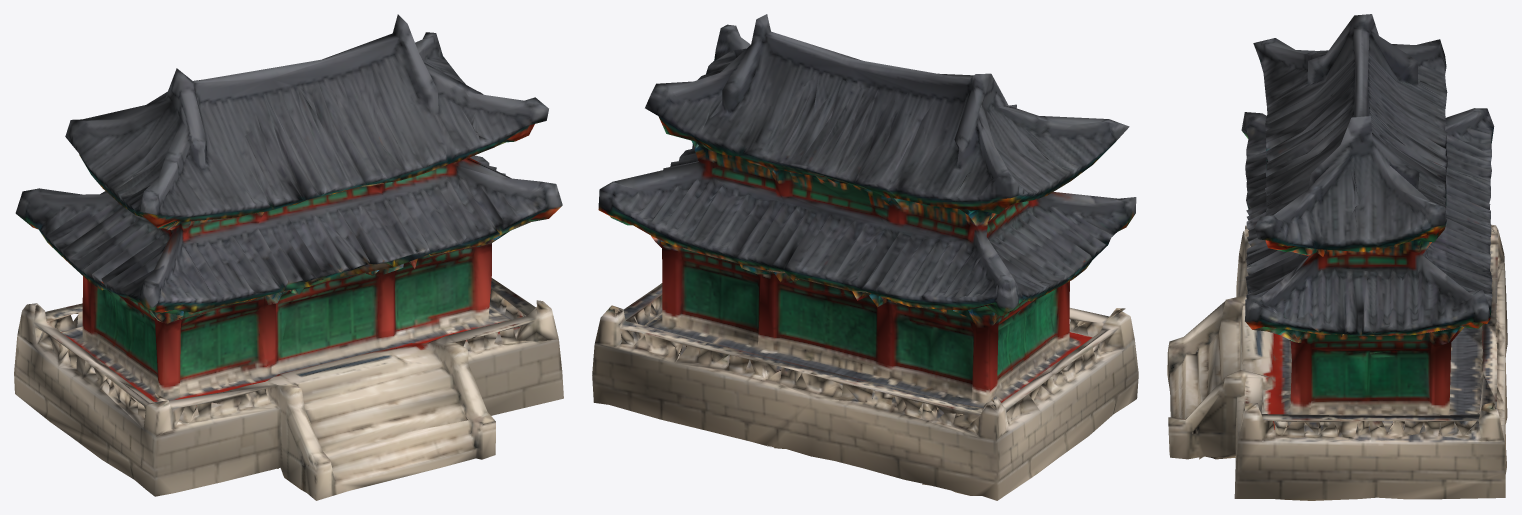
File: palace_hall.glb
The picture shows the model from 3 angles, left to right: view 1: azimuth 30°, elevation 25°; view 2: azimuth 150°, elevation 25°; view 3: azimuth 270°, elevation 25°; orthographic projection. The views are drawn at different scales.
Visible parts, largest first — view 1: low; view 2: low; view 3: low.
Boxes of the visible parts, x1,y1,x2,y2 form: low: [14, 14, 563, 500]; low: [592, 14, 1138, 500]; low: [1167, 14, 1507, 500].
Bounding box in the file's own units: 0.9982 × 0.828 × 0.736.
Materials: 1 (1 with a texture image).
